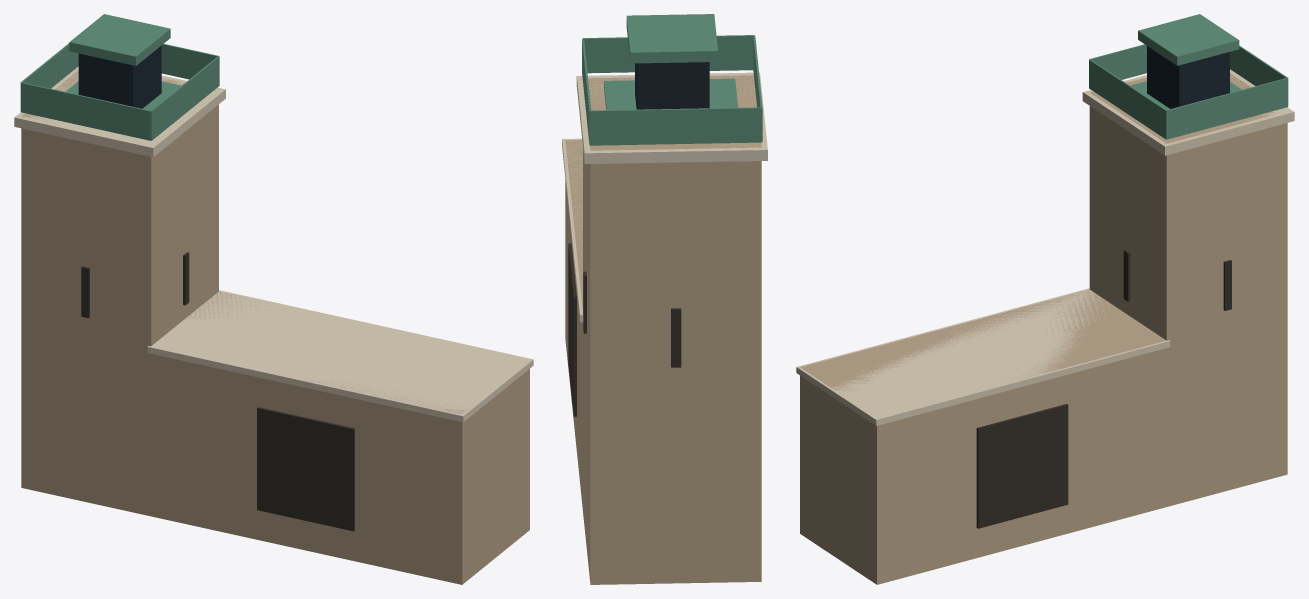
Rendered from katerturm.glb.
3 renders of one model, left to right at view 1: azimuth 30°, elevation 25°; view 2: azimuth 150°, elevation 25°; view 3: azimuth 270°, elevation 25°, orthographic. The views are drawn at different scales.
Visible parts, largest first — view 1: katerturm_lod0; view 2: katerturm_lod0; view 3: katerturm_lod0.
Part boxes in pixels (x1=…): katerturm_lod0: x1=14, y1=14, x2=533, y2=584; katerturm_lod0: x1=562, y1=14, x2=767, y2=584; katerturm_lod0: x1=796, y1=14, x2=1294, y2=584.
Size of what is drawn, in the model's own units: 11.76 by 14.2 by 14.91.
